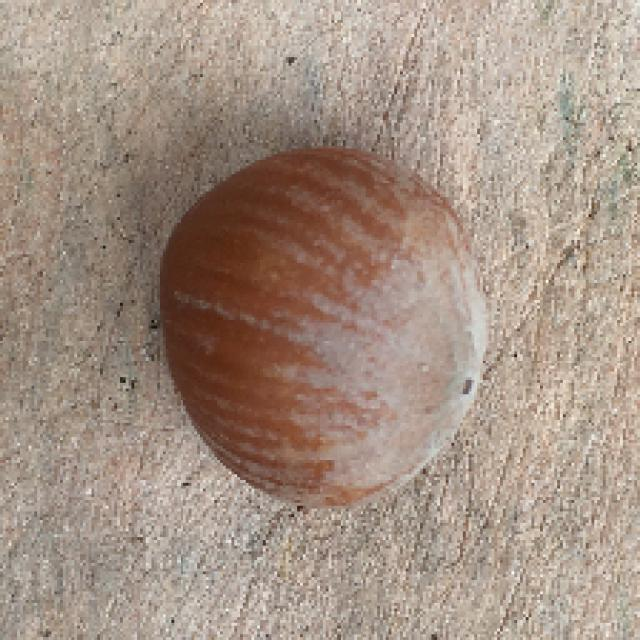qualityHazelnut: (165, 150, 491, 506)
